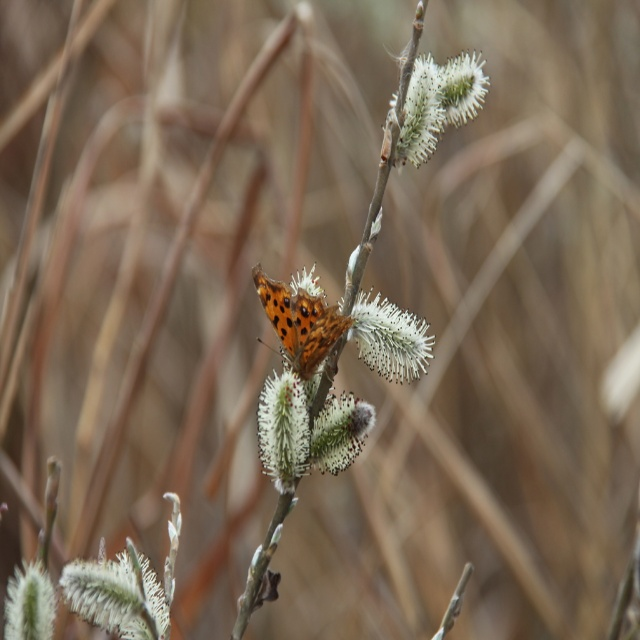Butterfly: (248, 259, 396, 394)
